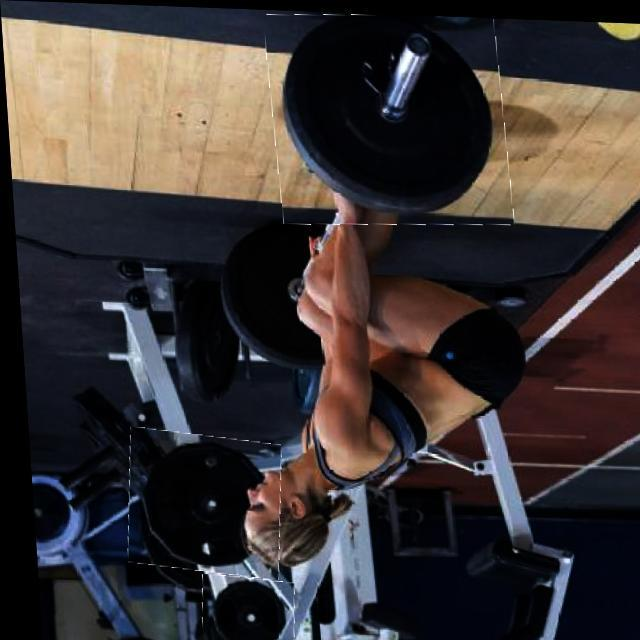barbell: (266, 9, 511, 228), (116, 430, 280, 576), (193, 576, 290, 640)
